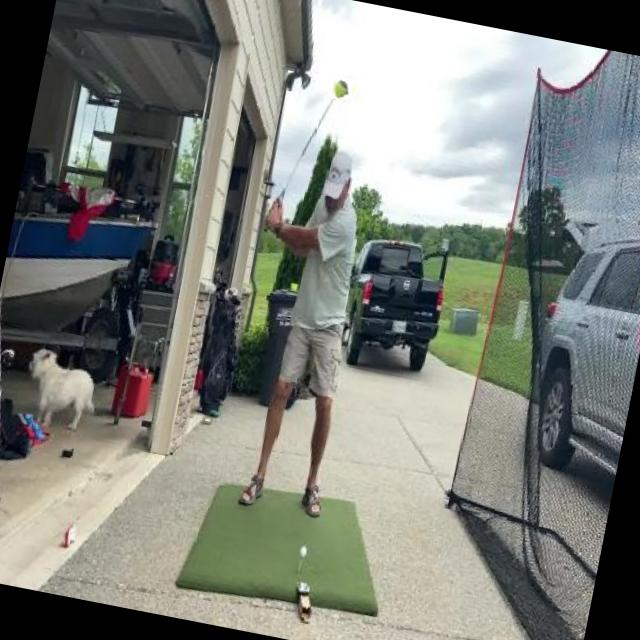club head: (332, 76, 354, 102)
